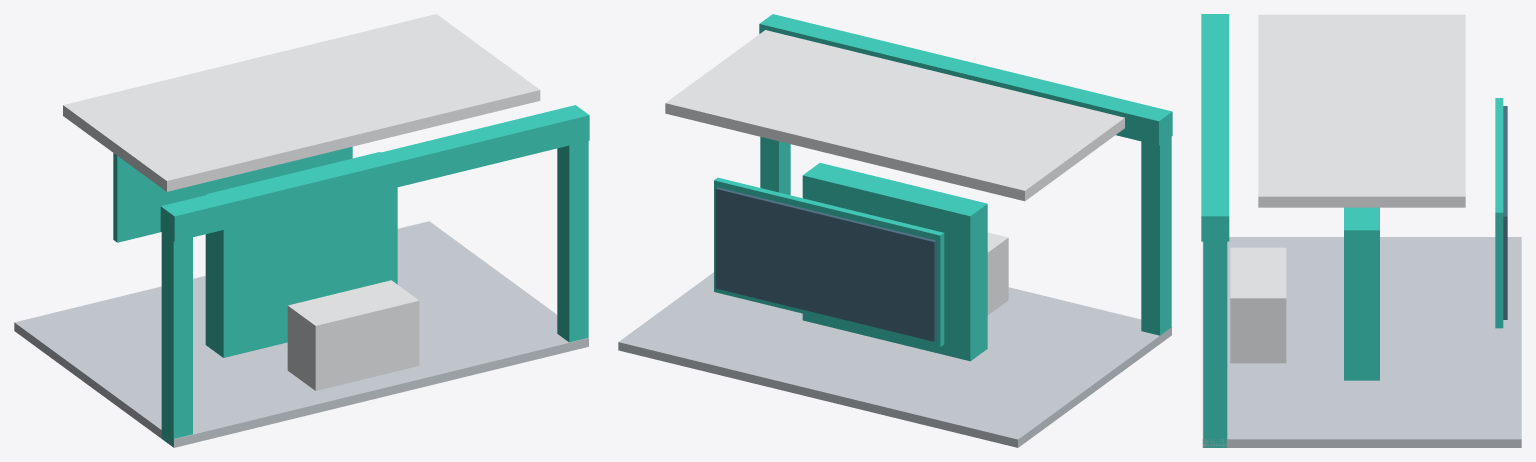
3 views of the same model, side by side, from view 1: azimuth 30°, elevation 25°; view 2: azimuth 150°, elevation 25°; view 3: azimuth 270°, elevation 25° (orthographic). The views are drawn at different scales.
Parts seen in each view (by area): view 1: Exhibition Booth Concept; view 2: Exhibition Booth Concept; view 3: Exhibition Booth Concept.
Part boxes in pixels (box(x1,y1,x2,y2)): Exhibition Booth Concept: box(14, 14, 589, 447); Exhibition Booth Concept: box(618, 14, 1172, 447); Exhibition Booth Concept: box(1201, 14, 1521, 447).
Bounding box in the file's own units: 6 × 3.34 × 4.02.
